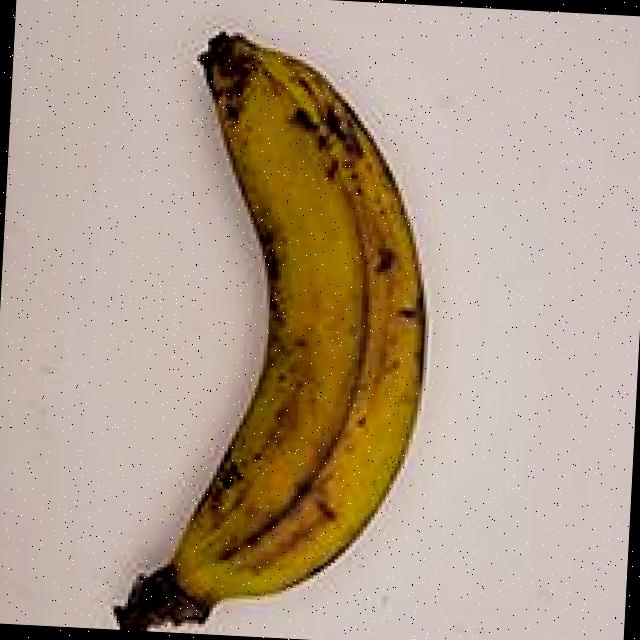Overripe: (75, 15, 474, 640)
